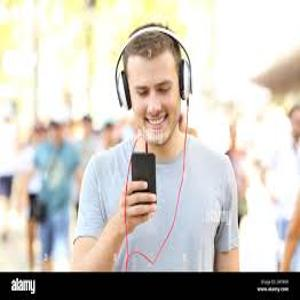Headphones: (113, 28, 194, 112)
